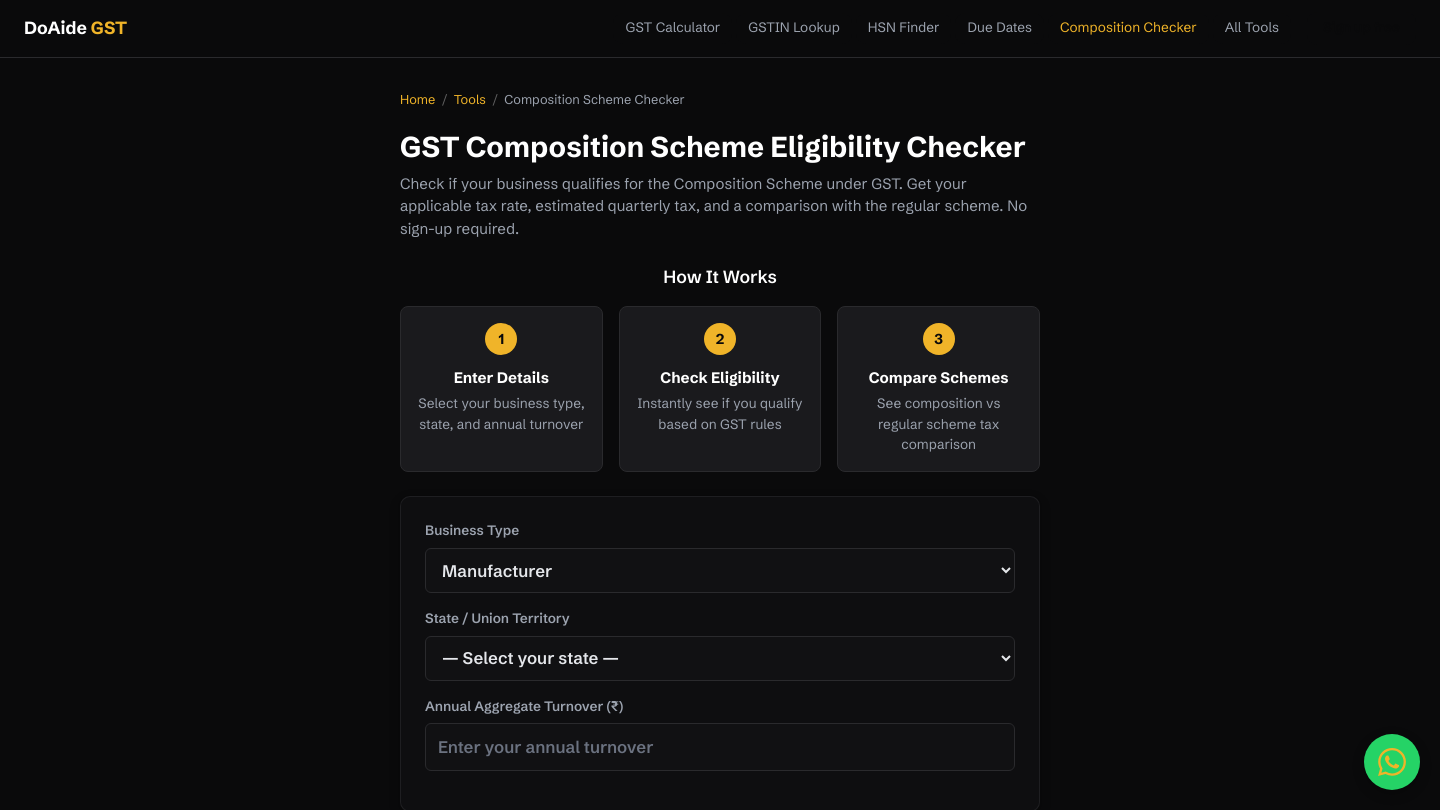
CompositionSchemeCheckerPage › shows not eligible when turnover exceeds limit
Select "Maharashtra" in the dropdown labelled "State / Union Territory": (720, 658) [425,636,1015,681]
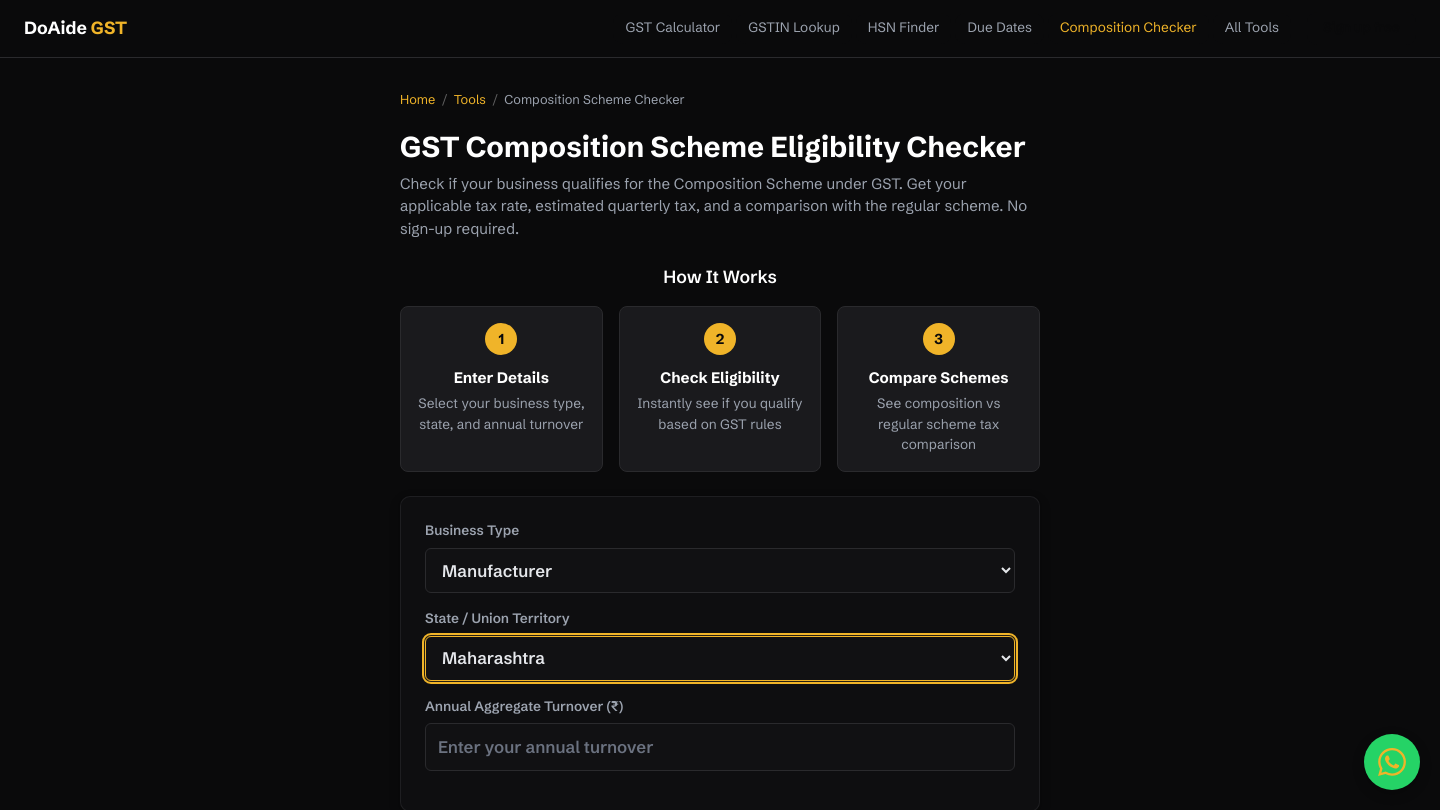
In the number field labelled "Annual Aggregate Turnover (₹)": (720, 747) [425,723,1015,771], type "20000000"
(page scrolled)
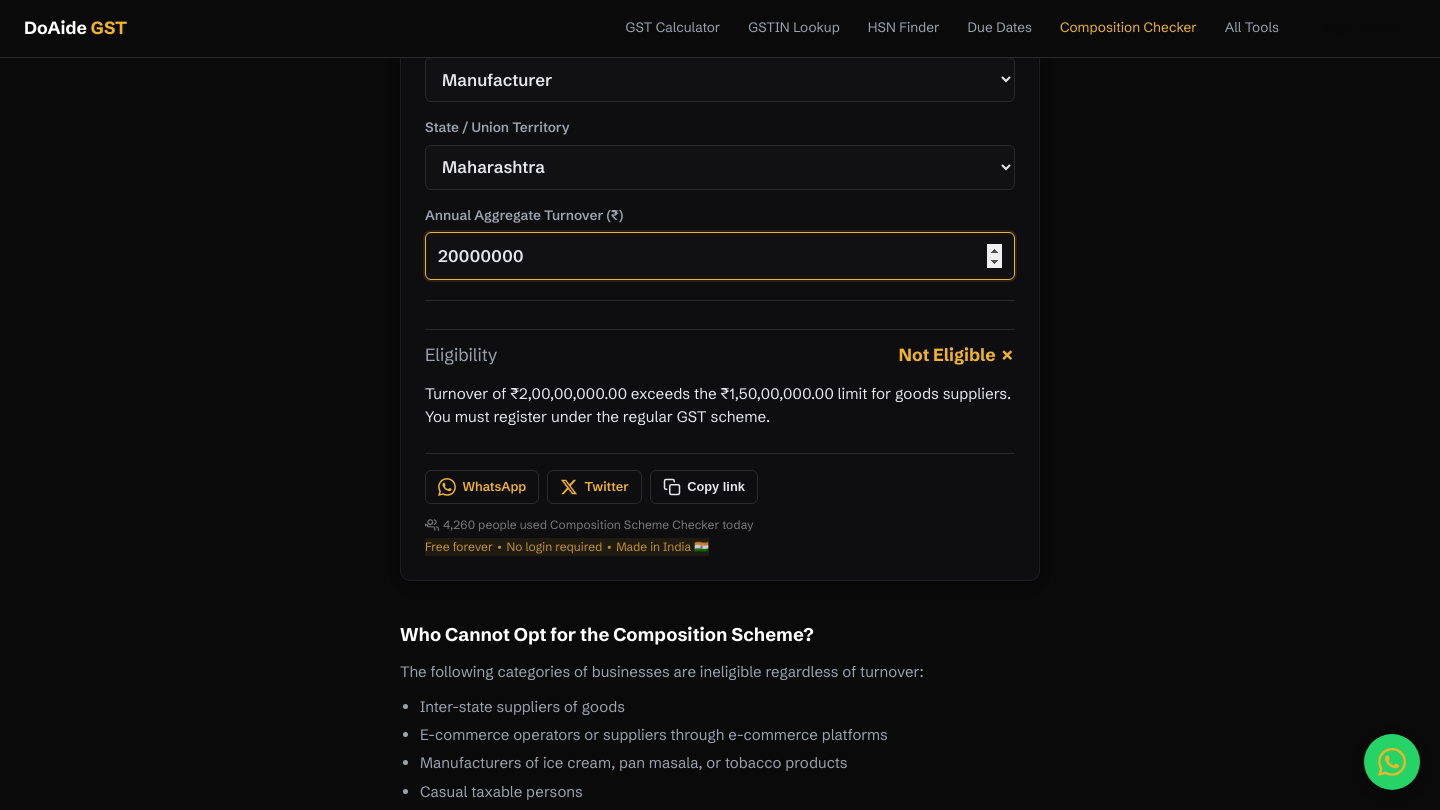
Expected: the text "Not Eligible ✗" is shown, [899,342,1015,369]
Expected: the text "exceeds the" is shown, [425,384,1011,426]
